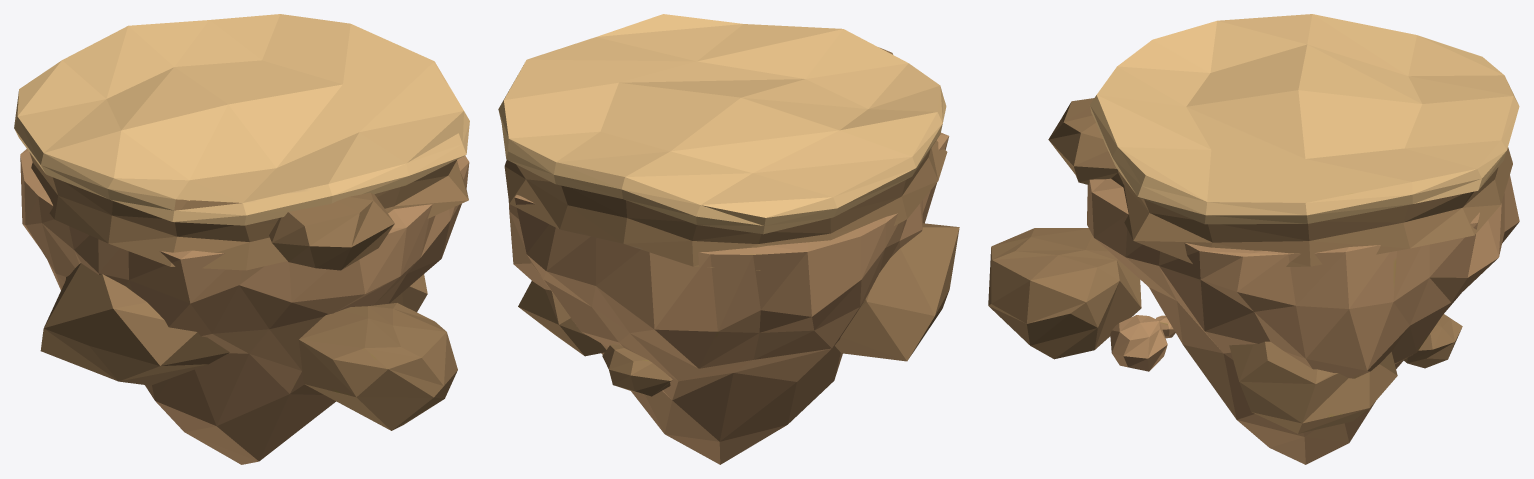
File: desert road2.fbx
3 views of the same model, side by side, from view 1: azimuth 30°, elevation 25°; view 2: azimuth 150°, elevation 25°; view 3: azimuth 270°, elevation 25° (orthographic).
Parts seen in each view (by area): view 1: terrain_terrain_0.002; view 2: terrain_terrain_0.002; view 3: terrain_terrain_0.002.
Boxes of the visible parts, x1,y1,x2,y2 form: terrain_terrain_0.002: (14, 14, 469, 464); terrain_terrain_0.002: (498, 14, 959, 464); terrain_terrain_0.002: (988, 14, 1519, 464).
Size of the model in its own units: 363 by 316 by 416.
